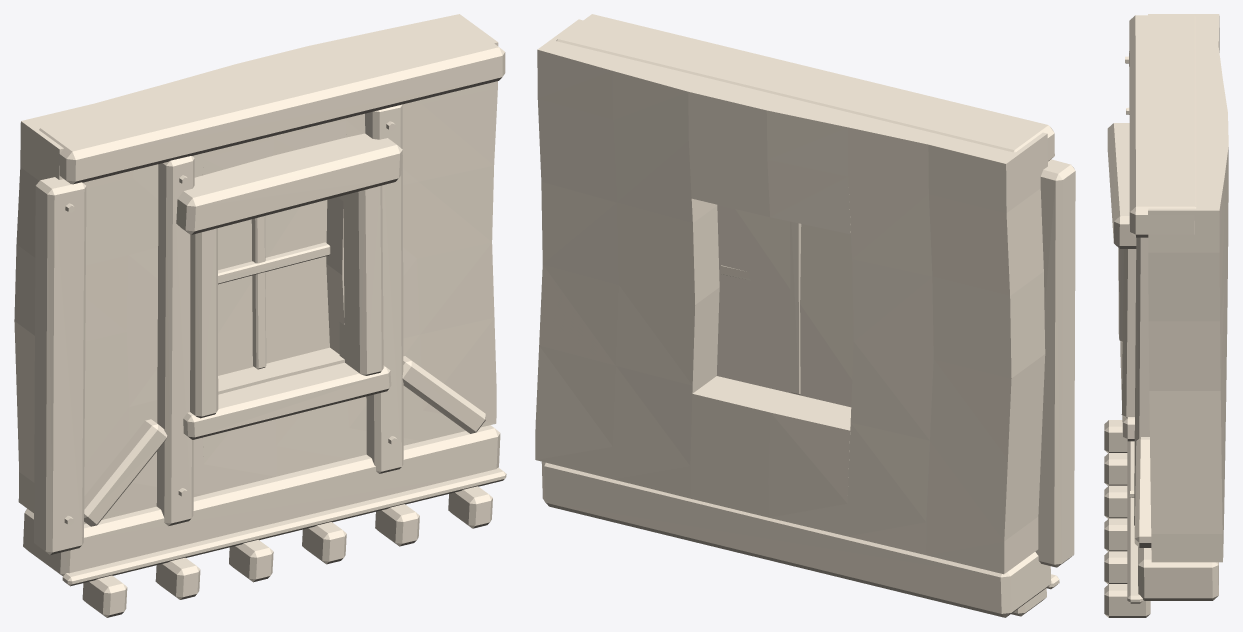
Rendered from SM_VK_Wall_Timber_Window.fbx.
3 renders of one model, left to right at view 1: azimuth 30°, elevation 25°; view 2: azimuth 150°, elevation 25°; view 3: azimuth 270°, elevation 25°, orthographic. The views are drawn at different scales.
Visible parts, largest first — view 1: SM_VK_Wall_Timber_Window.001; view 2: SM_VK_Wall_Timber_Window.001; view 3: SM_VK_Wall_Timber_Window.001.
Boxes of the visible parts, left/top/right/bottom form: SM_VK_Wall_Timber_Window.001: left=14, top=14, right=506, bottom=617; SM_VK_Wall_Timber_Window.001: left=535, top=14, right=1075, bottom=617; SM_VK_Wall_Timber_Window.001: left=1104, top=14, right=1228, bottom=617.
Size of the model in its own units: 3.13 by 3.01 by 0.8024.
